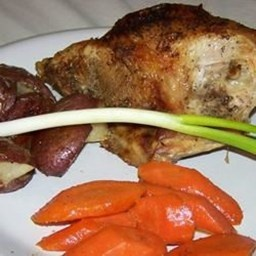background: (0, 1, 102, 102)
